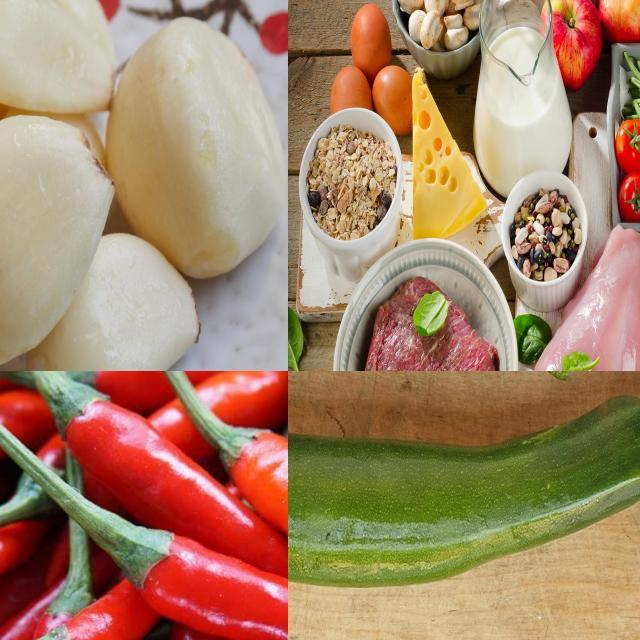egg: (371, 62, 415, 128), (353, 6, 389, 73), (331, 70, 369, 118)
garlic: (1, 1, 288, 372)
tomato: (616, 173, 640, 225), (619, 120, 640, 167)
zucchini: (289, 392, 640, 601)
